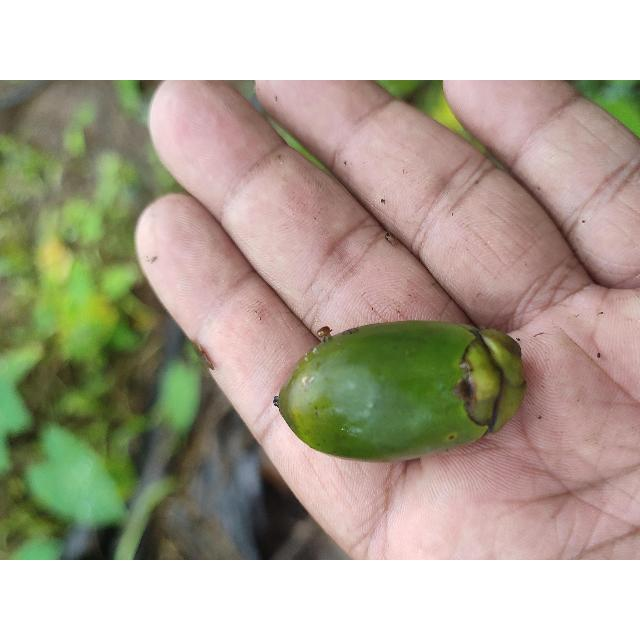good: (272, 320, 526, 464)
